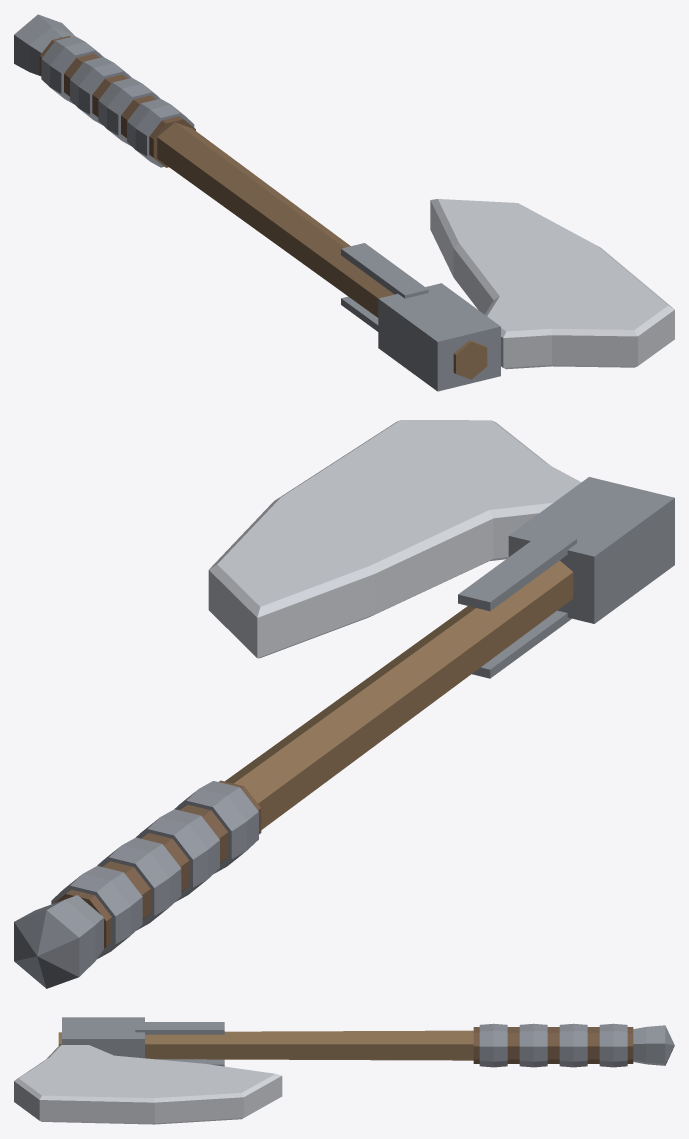
The model's file is beardedaxe.glb.
3 renders of one model, top to bottom at view 1: azimuth 30°, elevation 25°; view 2: azimuth 150°, elevation 25°; view 3: azimuth 270°, elevation 25°, orthographic. The views are drawn at different scales.
Visible parts, largest first — view 1: beardedaxe; view 2: beardedaxe; view 3: beardedaxe.
Part boxes in pixels (box(x1,y1,x2,y2)): beardedaxe: box(14, 14, 674, 391); beardedaxe: box(14, 420, 674, 988); beardedaxe: box(14, 1017, 674, 1124).
Size of the model in its own units: 0.29 by 0.0702 by 1.03.
